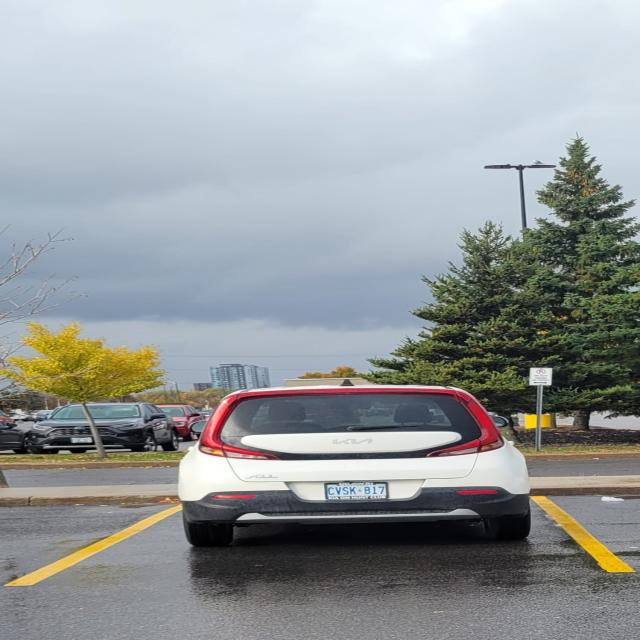plaque: (326, 482, 387, 500), (71, 437, 92, 443)
